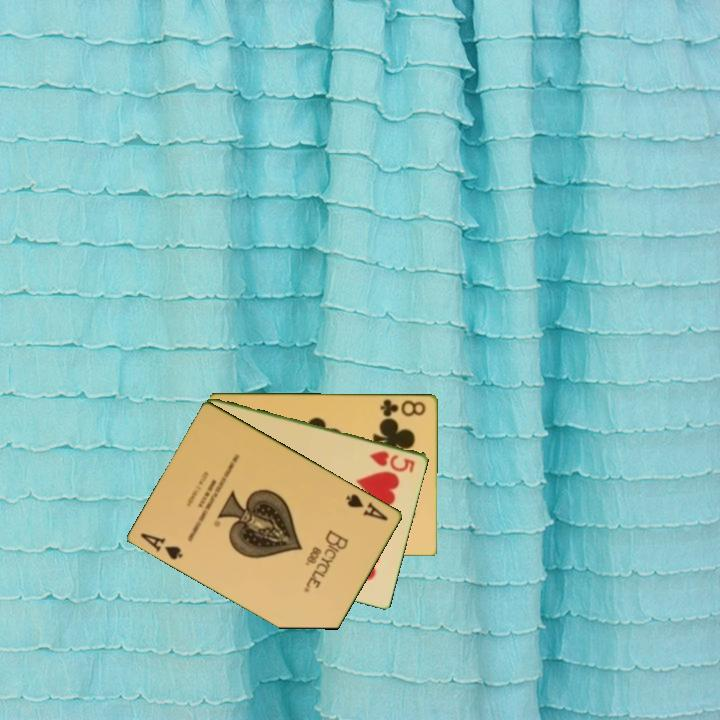5h: (366, 447, 418, 475)
8c: (377, 395, 429, 419)
As: (342, 490, 391, 524), (137, 529, 186, 563)
